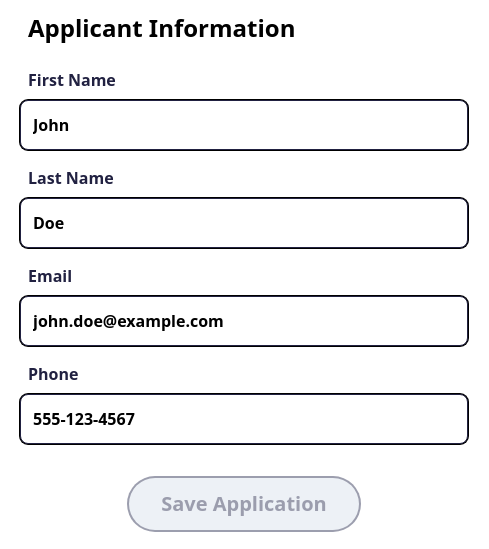
Test: ApplicationForm › Form Behavior › enables submit button when form is valid and dirty
Expected: the button "Save Application" is disabled, [127,476,361,532]
// Make a change
Replace the text in the field labelled "First Name" with "Updated Name": (244, 125) [20,100,468,150]
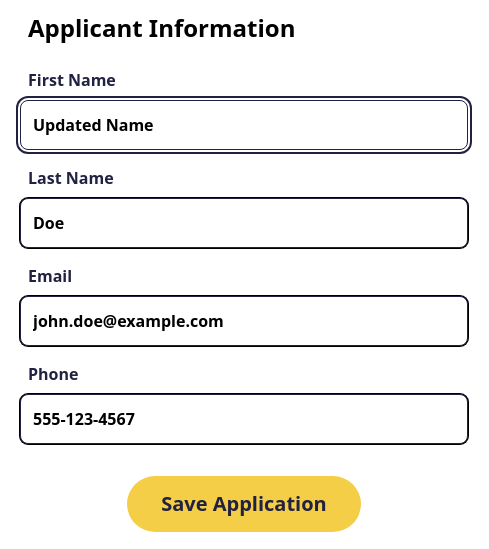
Now the button "Save Application" is enabled, box [127,476,361,532]
